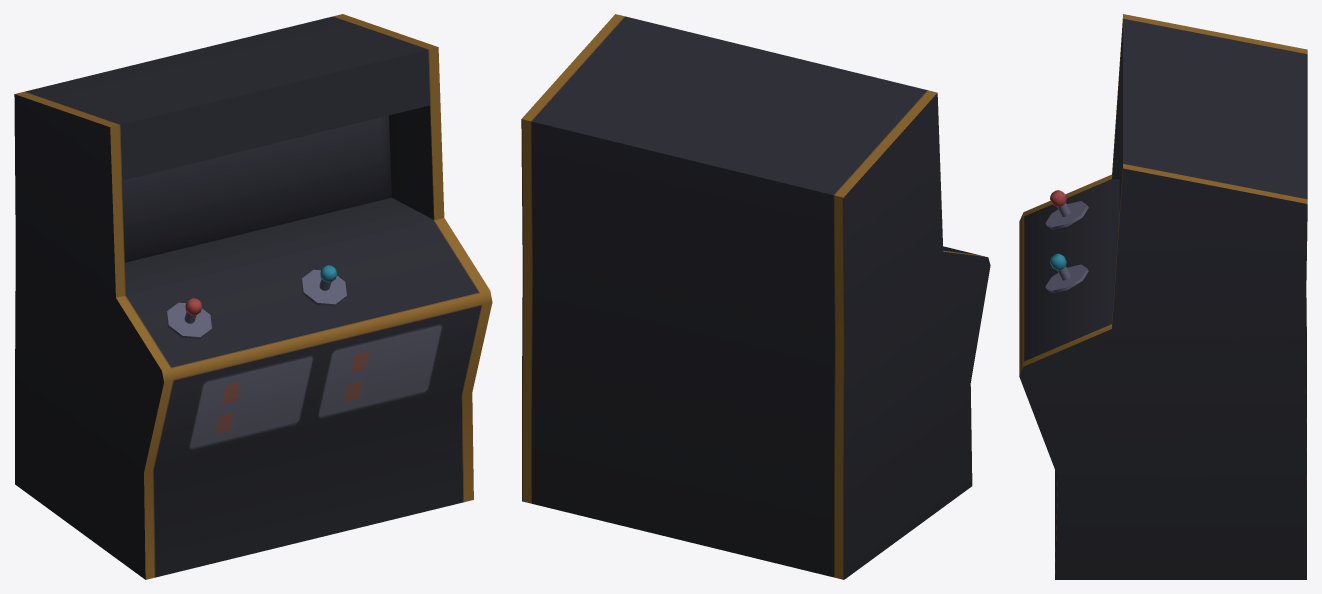
The model's file is Big Arcade machine.fbx.
3 views of the same model, side by side, from view 1: azimuth 30°, elevation 25°; view 2: azimuth 150°, elevation 25°; view 3: azimuth 270°, elevation 25° (orthographic). The views are drawn at different scales.
Parts seen in each view (by area): view 1: Big Arcade machine; view 2: Big Arcade machine; view 3: Big Arcade machine.
Boxes of the visible parts, x1=… form: Big Arcade machine: x1=14, y1=14, x2=492, y2=579; Big Arcade machine: x1=521, y1=14, x2=990, y2=579; Big Arcade machine: x1=1019, y1=14, x2=1307, y2=579.
Bounding box in the file's own units: 2.25 × 2.79 × 1.77.
1 material, 1 textured.
